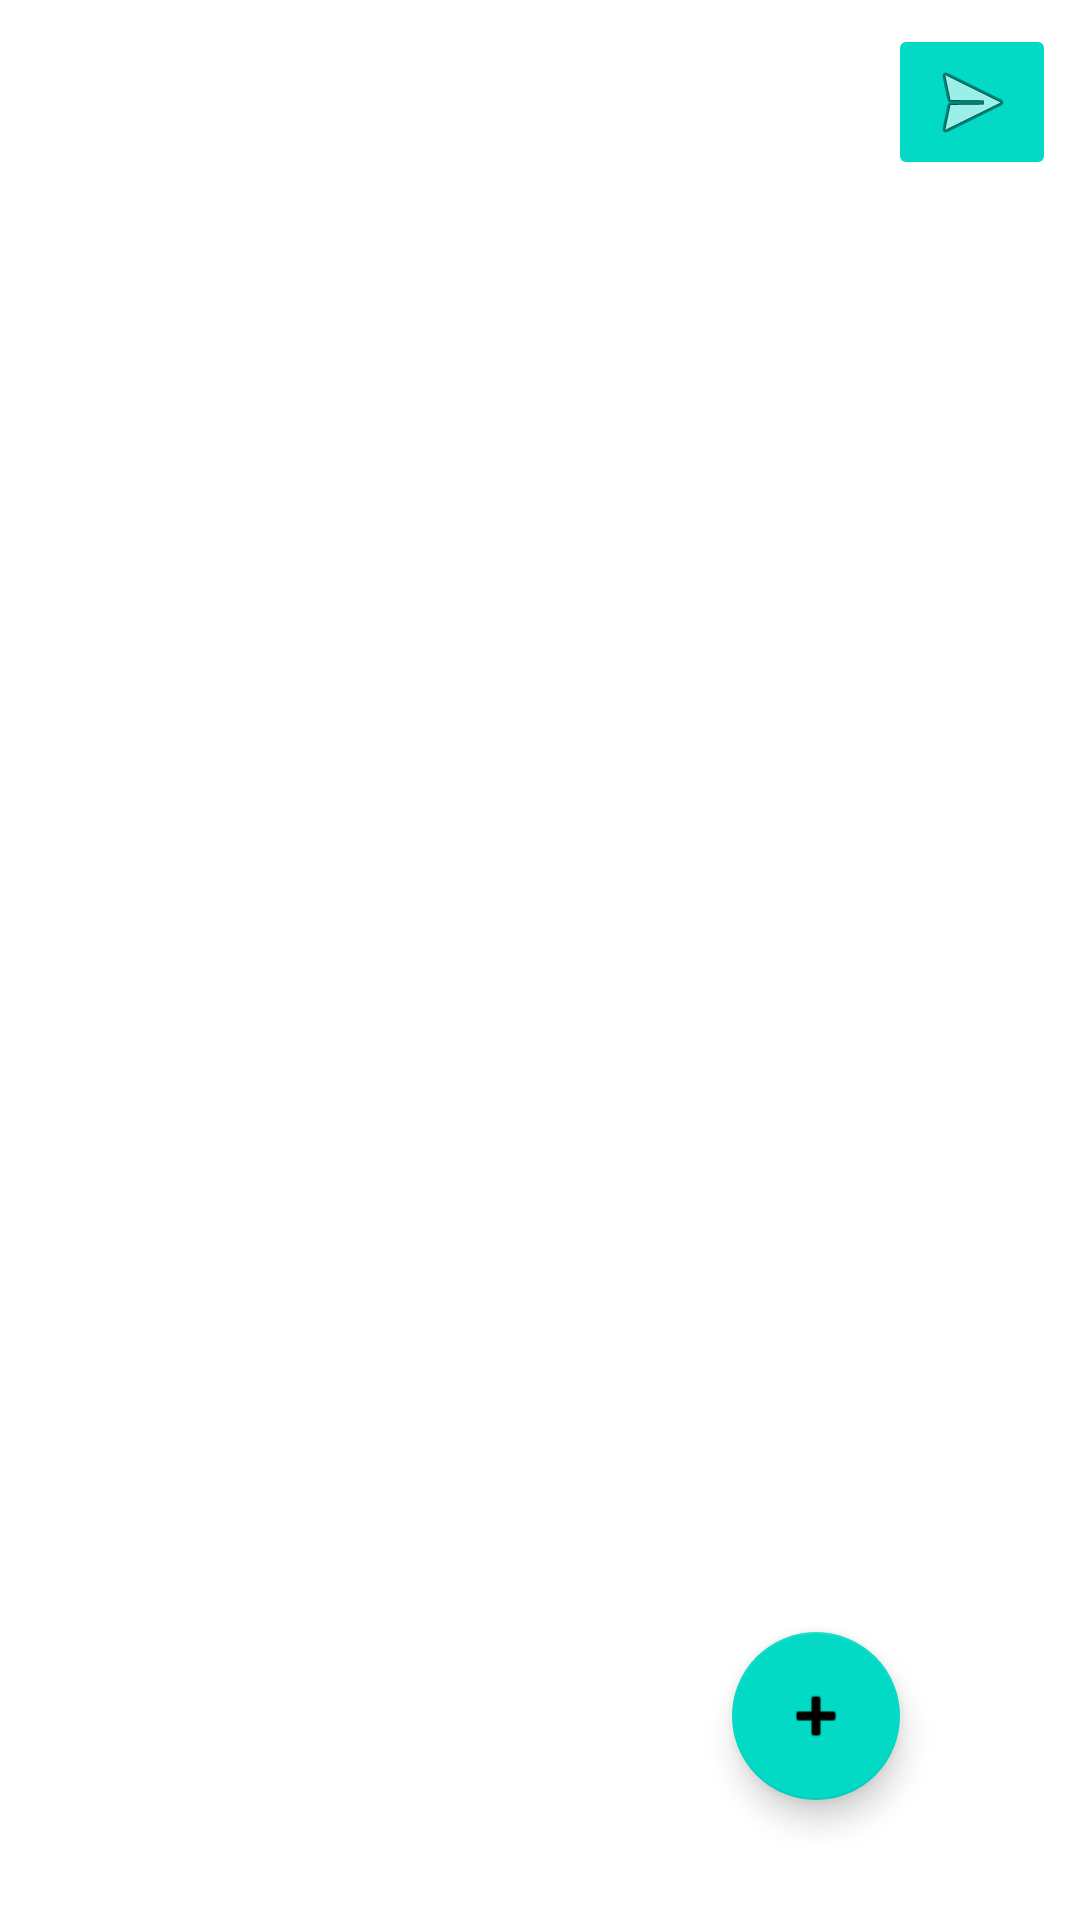

Named icons in this screenshot (1080x1920) and their centers, point (x, y):
add: point (816, 1716)
send: point (972, 102)
